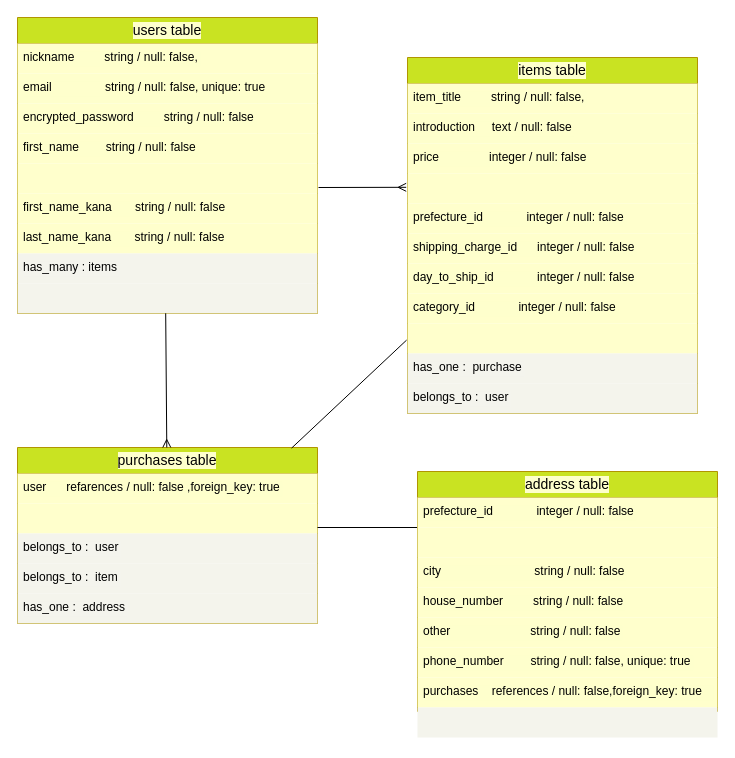
This 735x758 diagram has some shape labels left out. Each missing label, with the centre of its shape:
belongs_to : purchase: [567,722]
condition_id integer / null: false: [552,188]
has_many : purchases: [167,298]
item refarences / null: false ,foreign_key: true: [167,518]
last_name string / null: false: [167,178]
post_code string / null: false: [567,542]
user references / null: false,foreign_key: true: [552,338]
